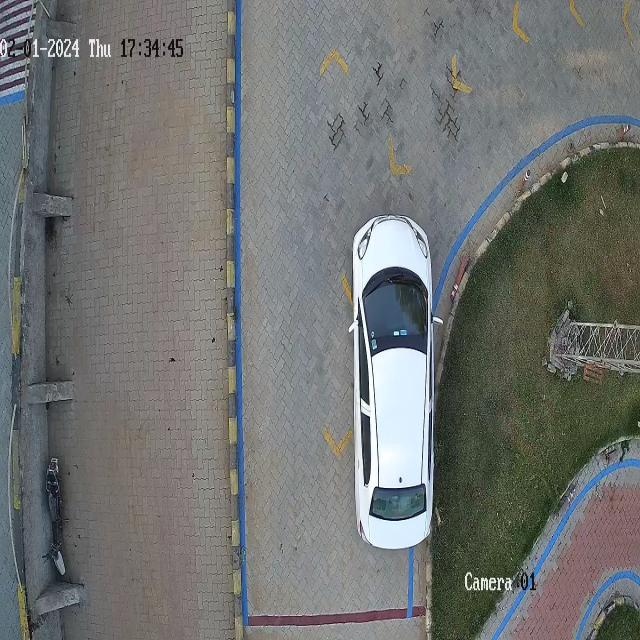car: (350, 216, 436, 549)
